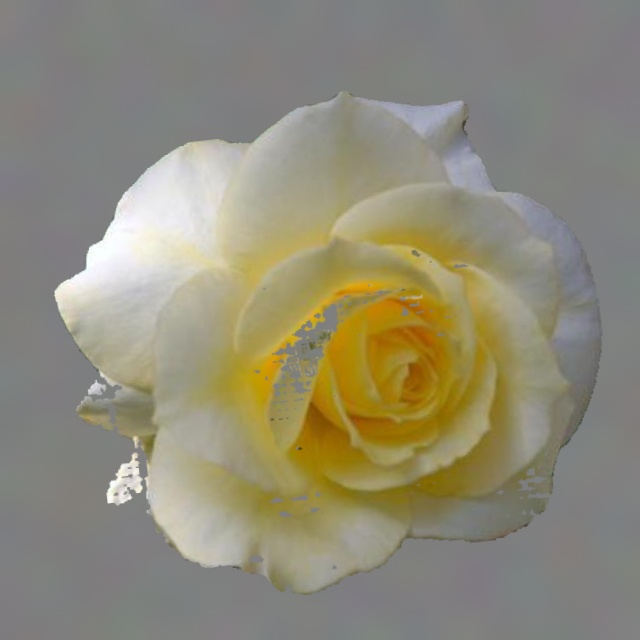dandelion: (183, 194, 476, 488)
rose: (54, 91, 601, 594)
